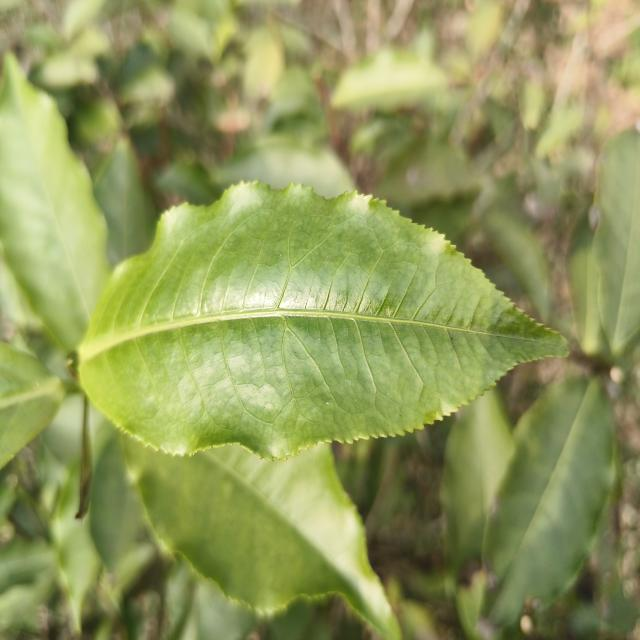Leaf: (79, 182, 567, 459), (121, 434, 400, 640), (0, 52, 109, 352), (483, 378, 614, 627), (441, 388, 514, 577), (593, 128, 640, 357), (217, 138, 356, 198), (0, 343, 64, 468), (93, 136, 154, 265), (484, 208, 551, 322), (89, 433, 142, 572), (332, 48, 446, 109), (569, 219, 604, 356), (59, 525, 100, 633), (156, 160, 216, 204)
